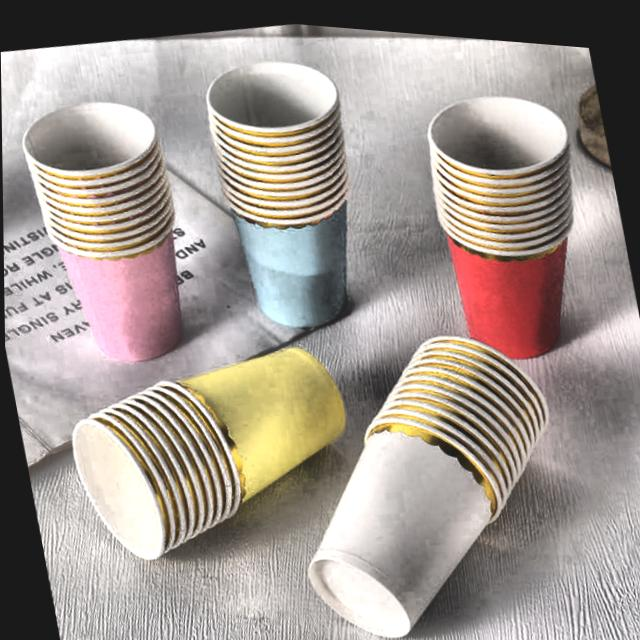Cup: (273, 292, 588, 640), (47, 308, 373, 587), (11, 58, 203, 373), (421, 75, 604, 367), (198, 43, 373, 299)
